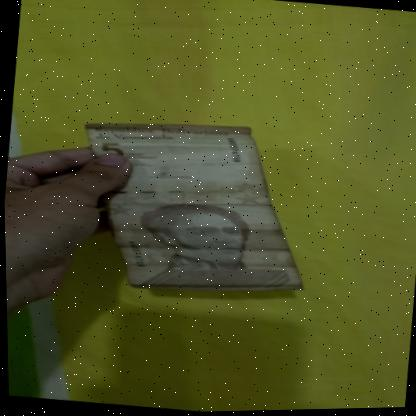five-front-vef: (67, 109, 316, 305)
